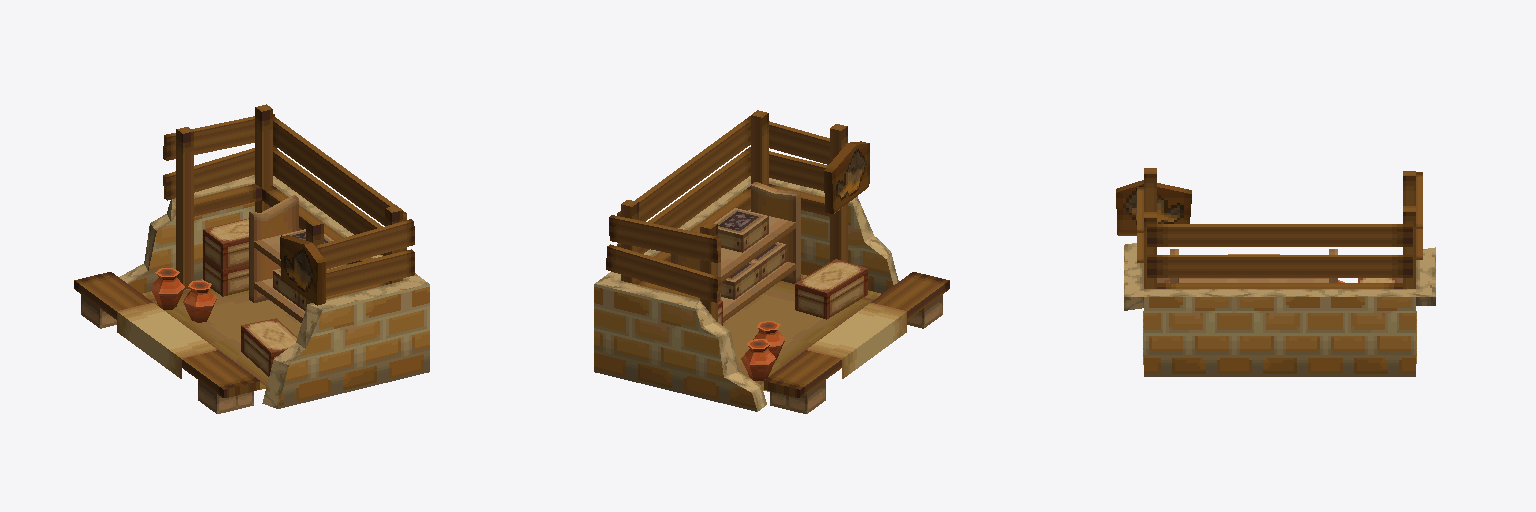
3 renders of one model, left to right at view 1: azimuth 30°, elevation 25°; view 2: azimuth 150°, elevation 25°; view 3: azimuth 270°, elevation 25°, orthographic.
Visible parts, largest first — view 1: polygon0; view 2: polygon0; view 3: polygon0.
Boxes of the visible parts, box(x1,y1,x2,y2) form: polygon0: box(74, 104, 429, 413); polygon0: box(594, 110, 949, 413); polygon0: box(1116, 168, 1435, 376).
Bounding box in the file's own units: 10.5 × 7 × 13.
2 materials, 2 textured.